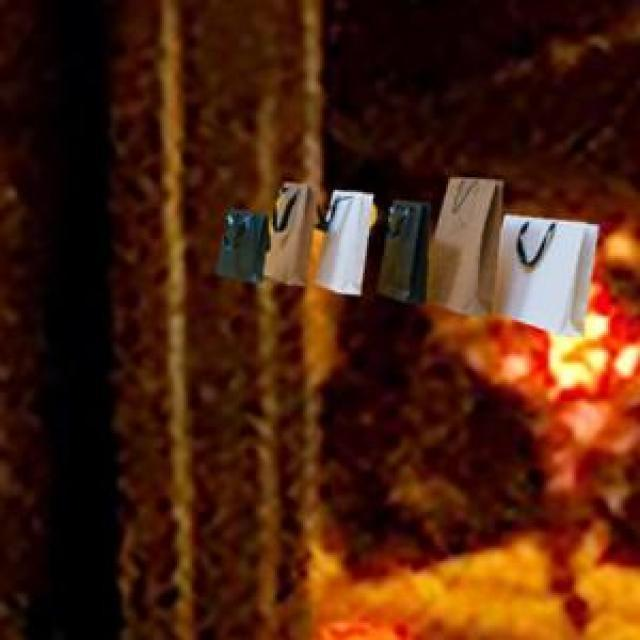paper: (211, 175, 593, 333)
